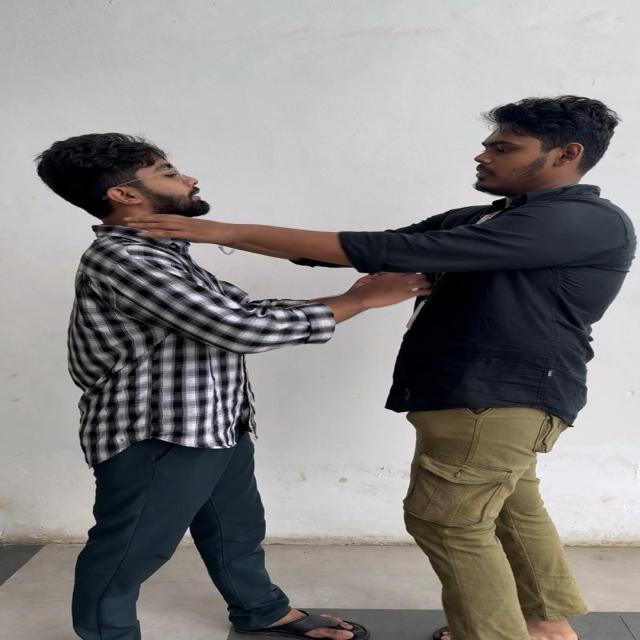fight: (30, 95, 629, 640)
